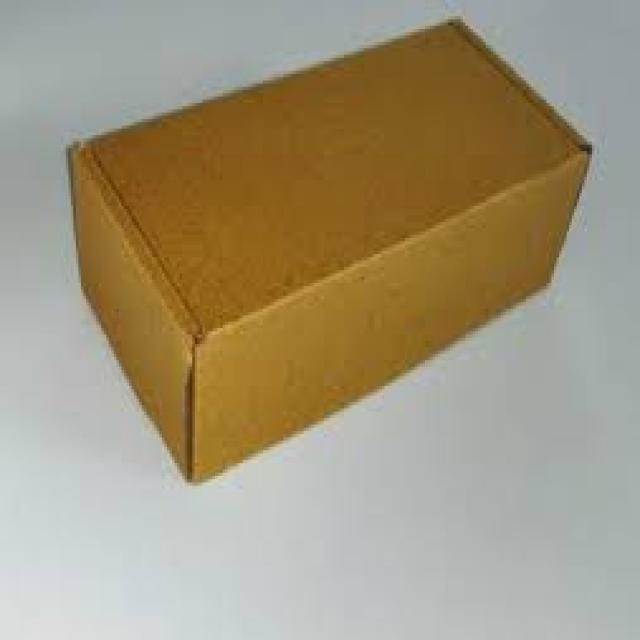cardboxes: (72, 16, 593, 492)
